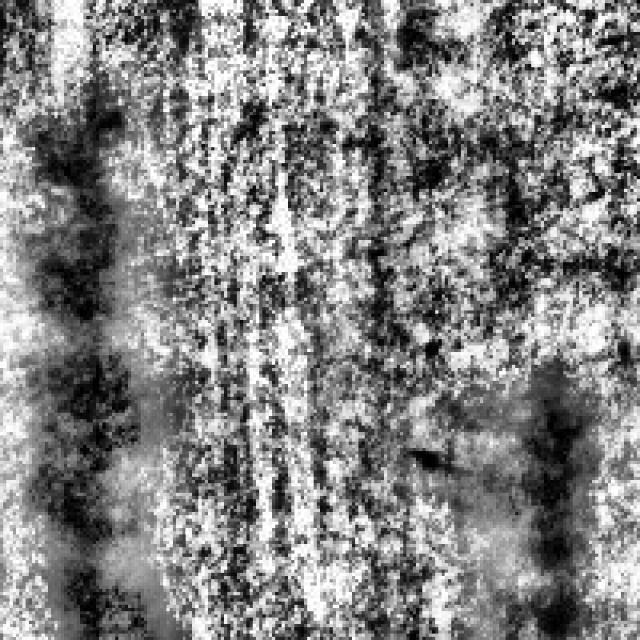Scratches: (26, 111, 148, 566), (464, 378, 589, 570), (36, 528, 166, 637)
